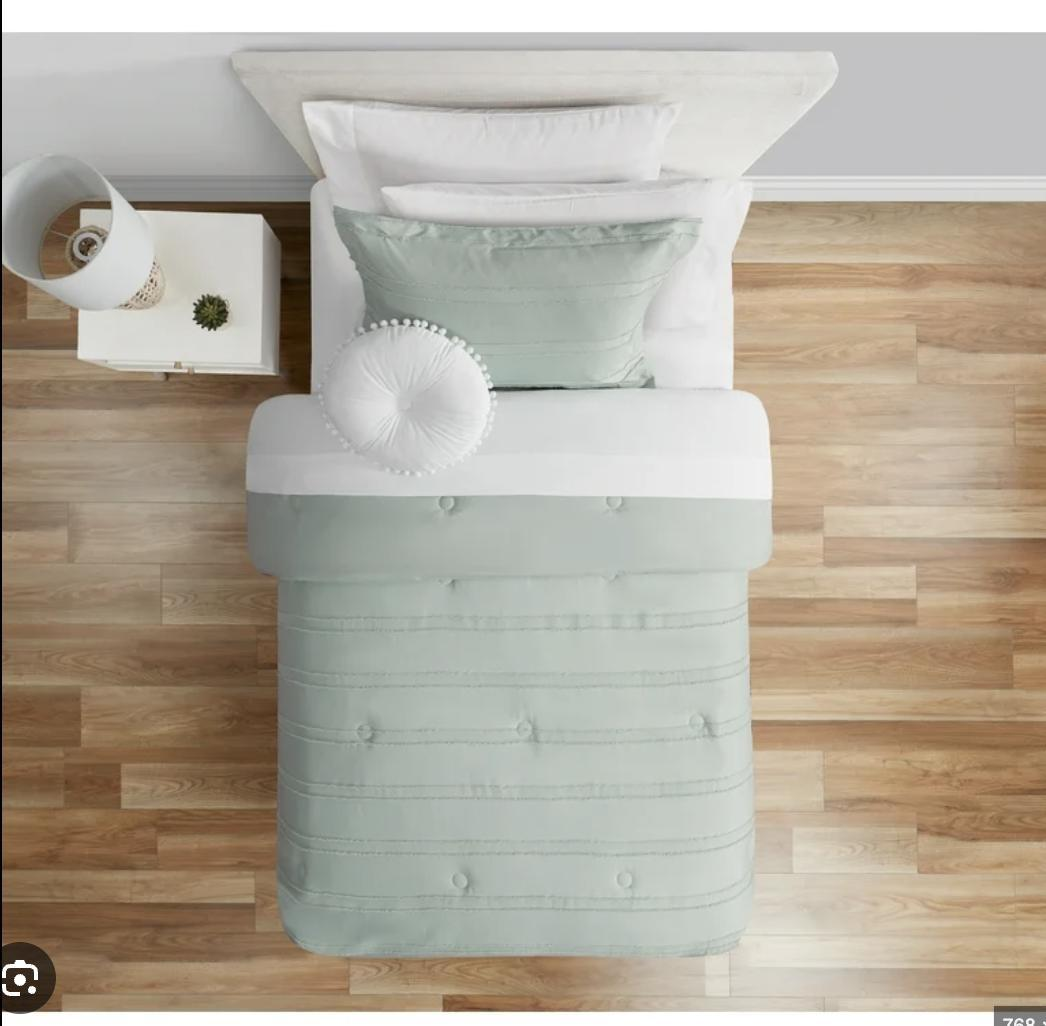Bed-Mattress: (224, 38, 843, 965)
